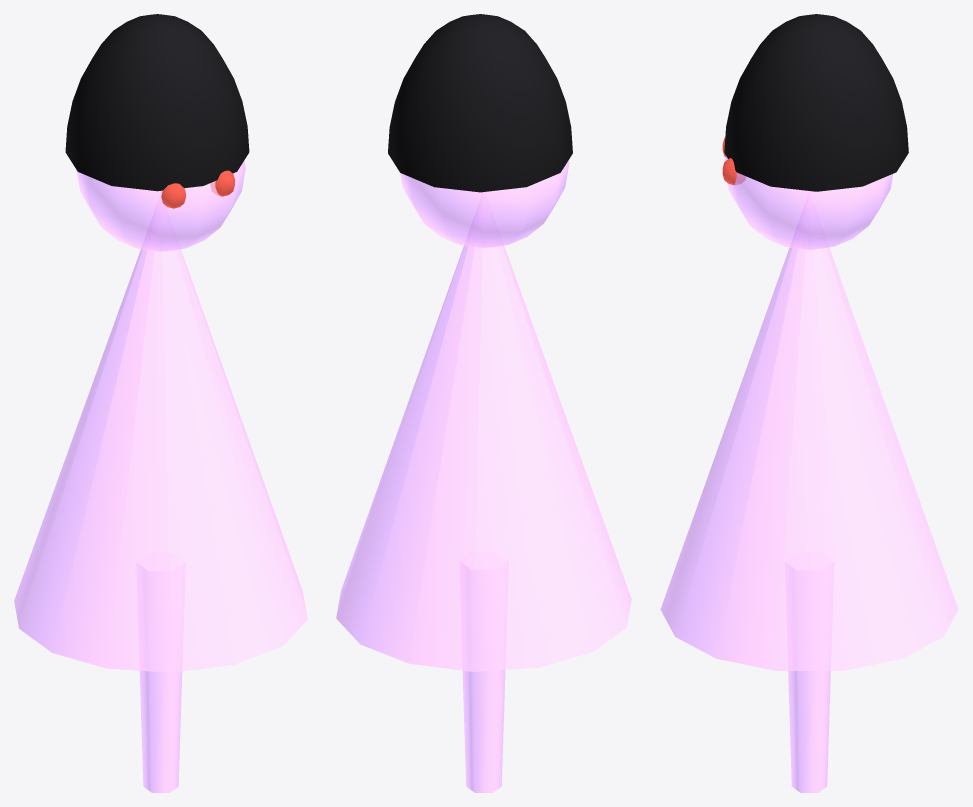
Rendered from kongkoi.glb.
3 renders of one model, left to right at view 1: azimuth 30°, elevation 25°; view 2: azimuth 150°, elevation 25°; view 3: azimuth 270°, elevation 25°, orthographic.
Size of the model in its own units: 0.8189 by 2.39 by 0.84.
